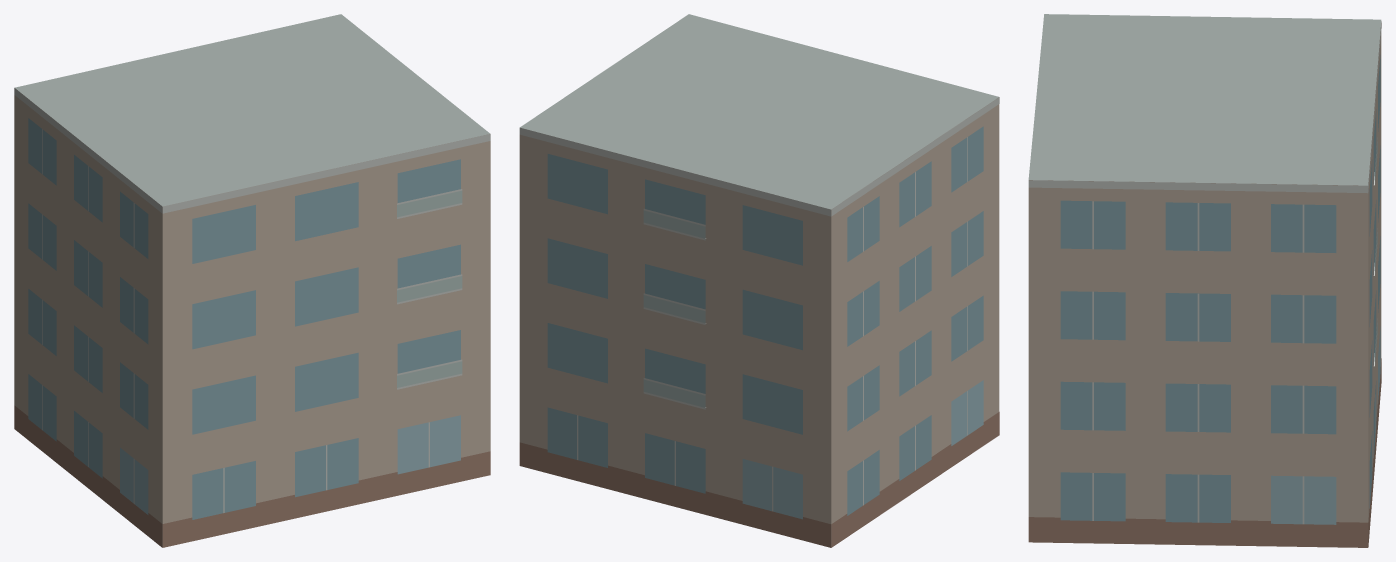
Rendered from survey-upis-32637603.glb.
The picture shows the model from 3 angles, left to right: view 1: azimuth 30°, elevation 25°; view 2: azimuth 150°, elevation 25°; view 3: azimuth 270°, elevation 25°; orthographic projection. The views are drawn at different scales.
Parts seen in each view (by area): view 1: survey-upis-32637603.tmp; view 2: survey-upis-32637603.tmp; view 3: survey-upis-32637603.tmp.
Part boxes in pixels (<box>): survey-upis-32637603.tmp: <box>14,14,490,547</box>; survey-upis-32637603.tmp: <box>519,14,999,547</box>; survey-upis-32637603.tmp: <box>1028,14,1381,547</box>.
Bounding box in the file's own units: 11.9 × 11.7 × 10.34.
